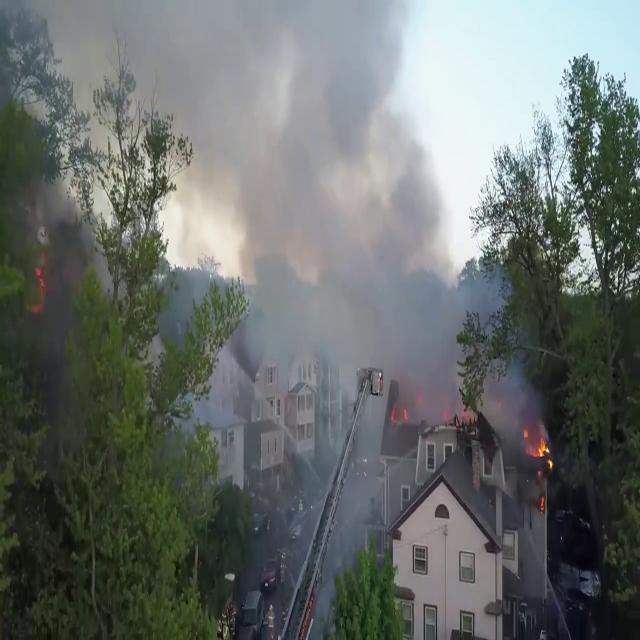Fire: (526, 428, 554, 474)
Smoke: (177, 1, 473, 432)
